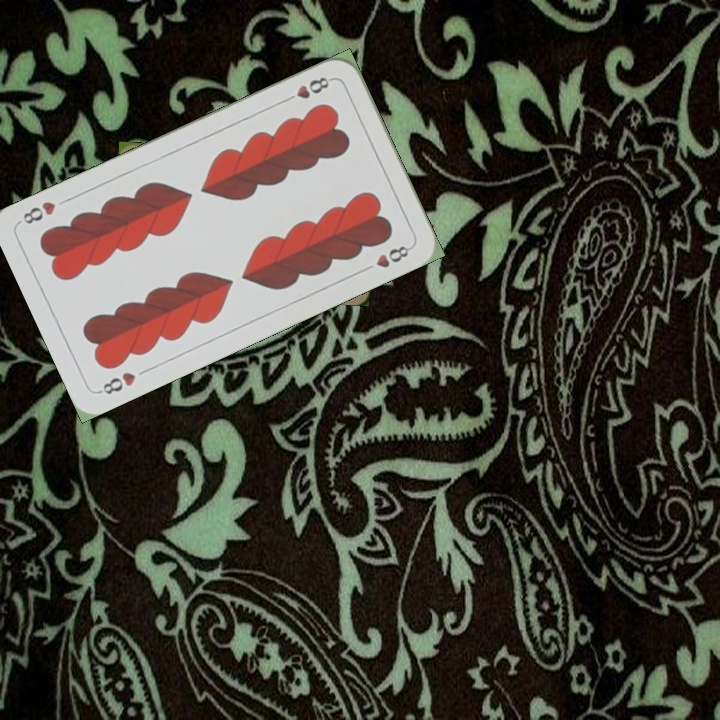H8: (280, 72, 335, 105), (95, 368, 139, 397)
